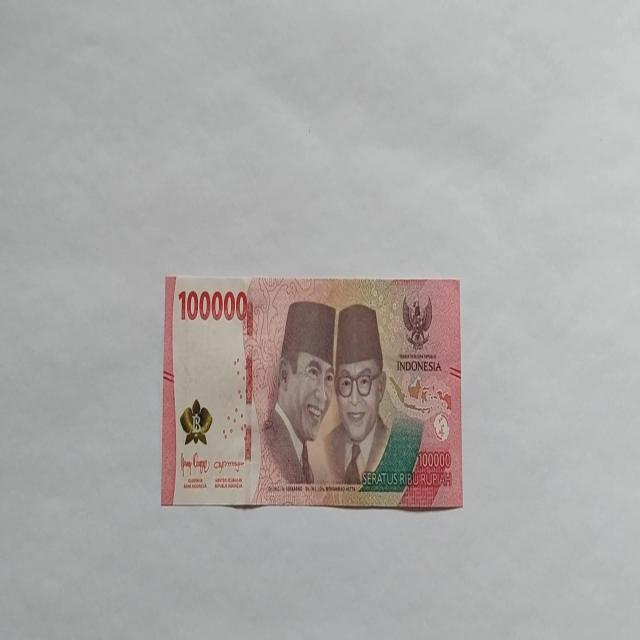seratus ribu rupiah: (160, 272, 462, 510), (252, 298, 336, 501)
